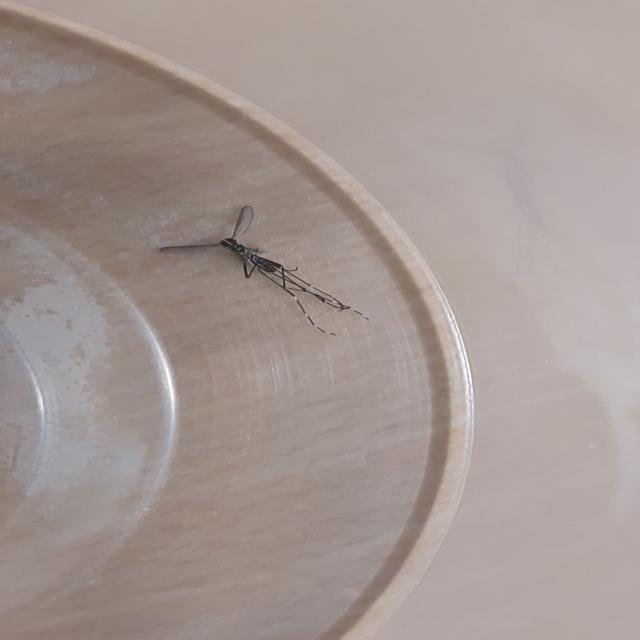albopictus: (154, 195, 378, 339)
